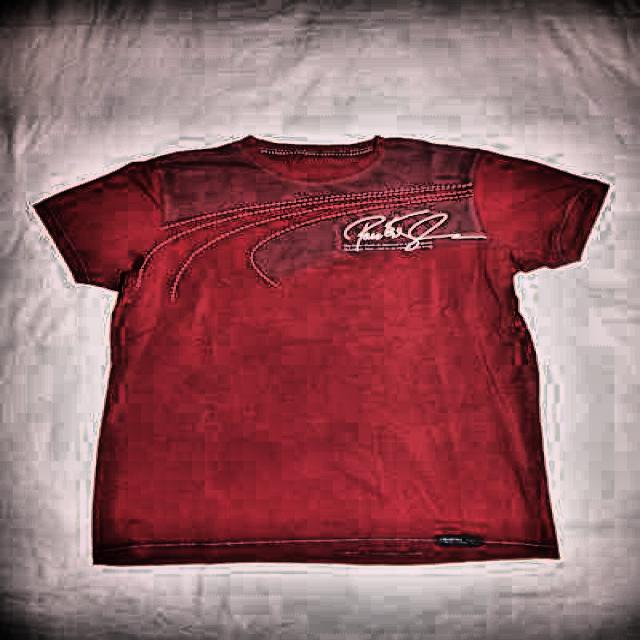clothes: (37, 131, 608, 569)
